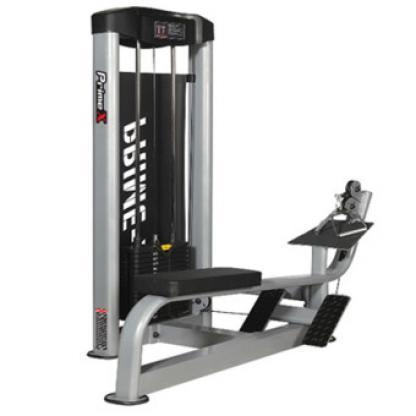Seated Cable Rows: (77, 2, 375, 416)
